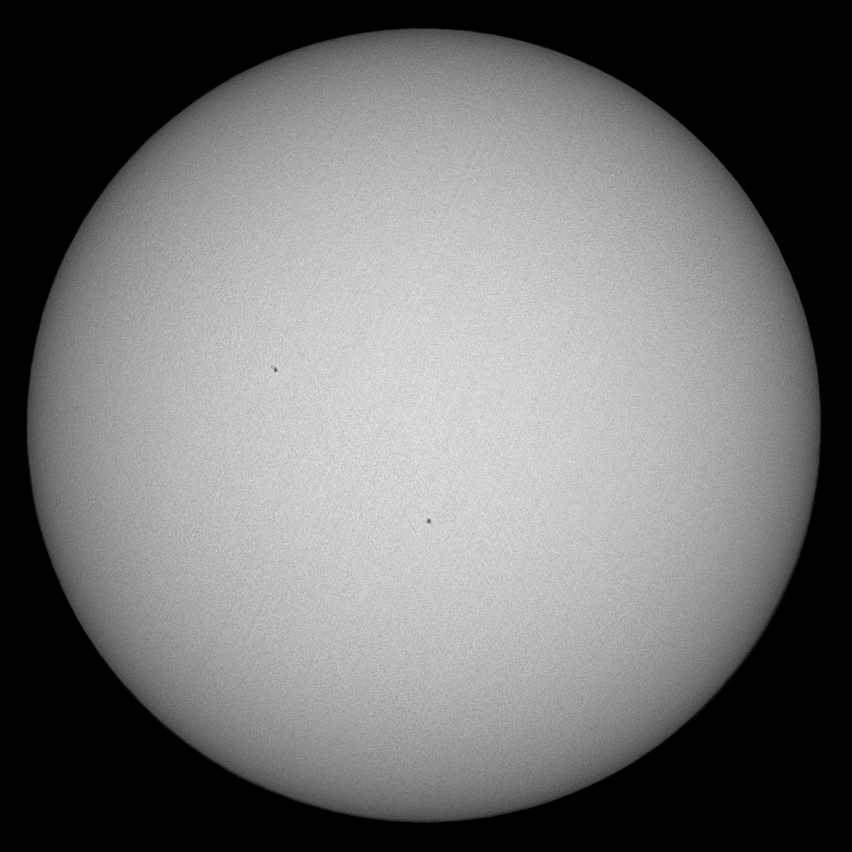sunspot: (266, 360, 286, 379), (421, 514, 439, 528)
